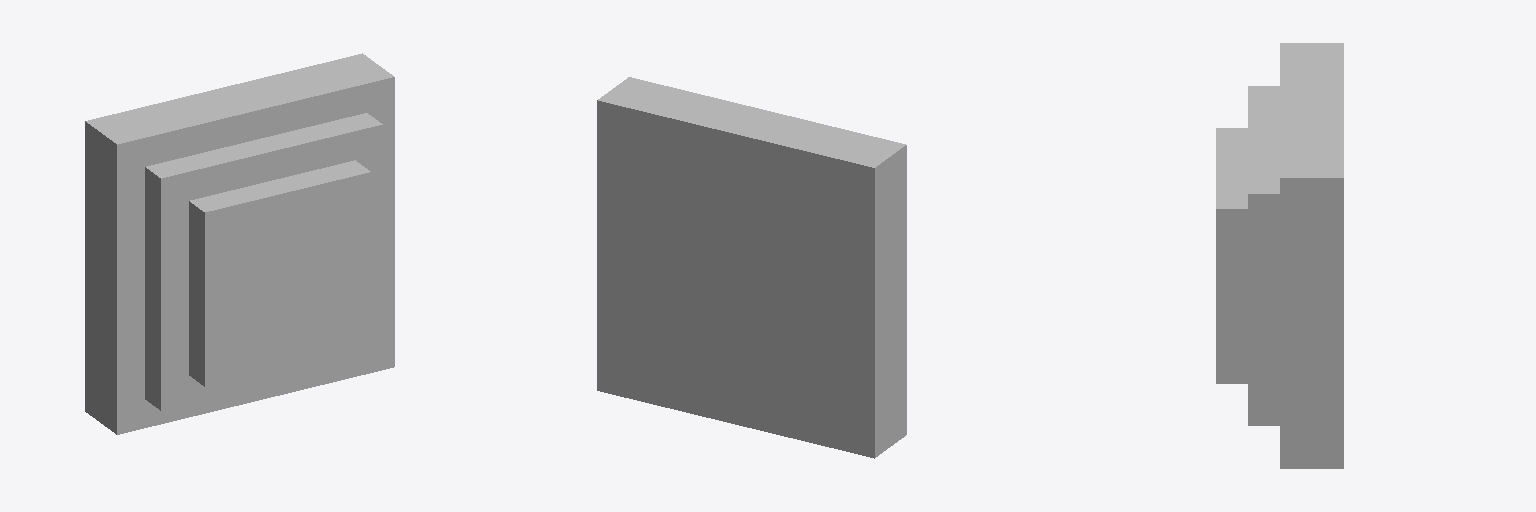
The model's file is wireless_energy_connector.obj.
3 renders of one model, left to right at view 1: azimuth 30°, elevation 25°; view 2: azimuth 150°, elevation 25°; view 3: azimuth 270°, elevation 25°, orthographic.
Visible parts, largest first — view 1: cube; view 2: cube; view 3: cube.
Boxes of the visible parts, x1,y1,x2,y2 form: cube: [85, 53, 394, 434]; cube: [597, 77, 906, 458]; cube: [1216, 43, 1343, 468].
Size of the model in its own units: 0.625 by 0.625 by 0.25.